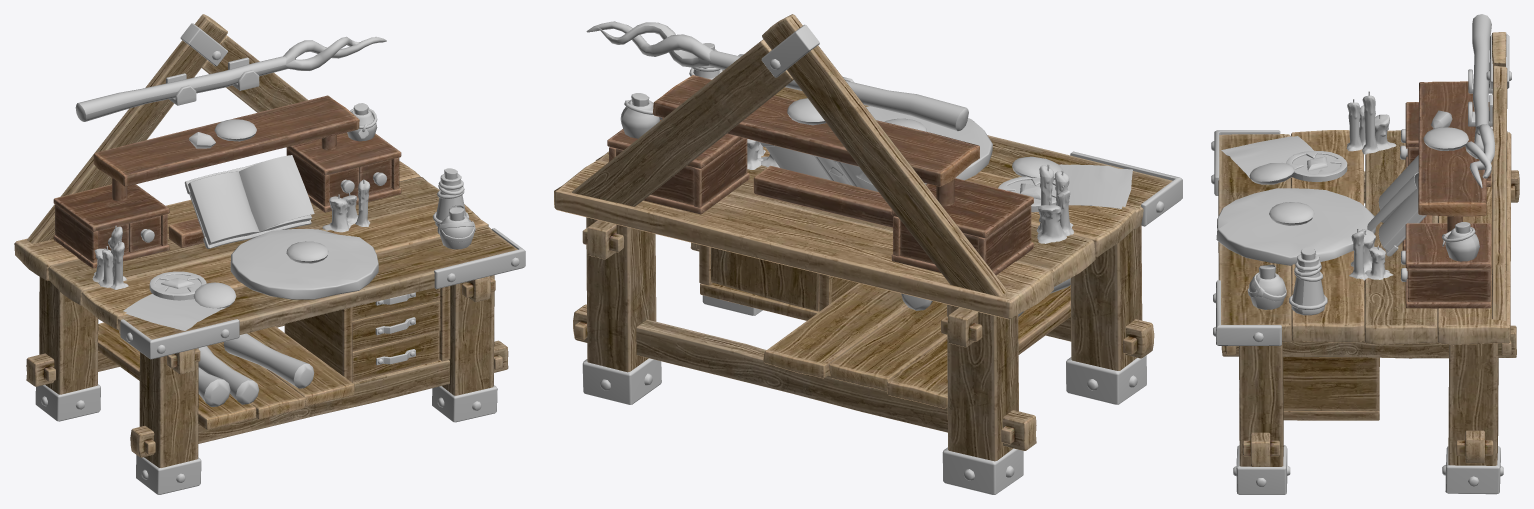
3 renders of one model, left to right at view 1: azimuth 30°, elevation 25°; view 2: azimuth 150°, elevation 25°; view 3: azimuth 270°, elevation 25°, orthographic. The views are drawn at different scales.
Parts seen in each view (by area): view 1: SM_MysticForge_LOD0; view 2: SM_MysticForge_LOD0; view 3: SM_MysticForge_LOD0.
Boxes of the visible parts, box(x1,y1,x2,y2) form: SM_MysticForge_LOD0: box(14, 14, 525, 494); SM_MysticForge_LOD0: box(554, 14, 1182, 494); SM_MysticForge_LOD0: box(1211, 14, 1519, 494).
Bounding box in the file's own units: 2.3 × 2.01 × 1.5.
